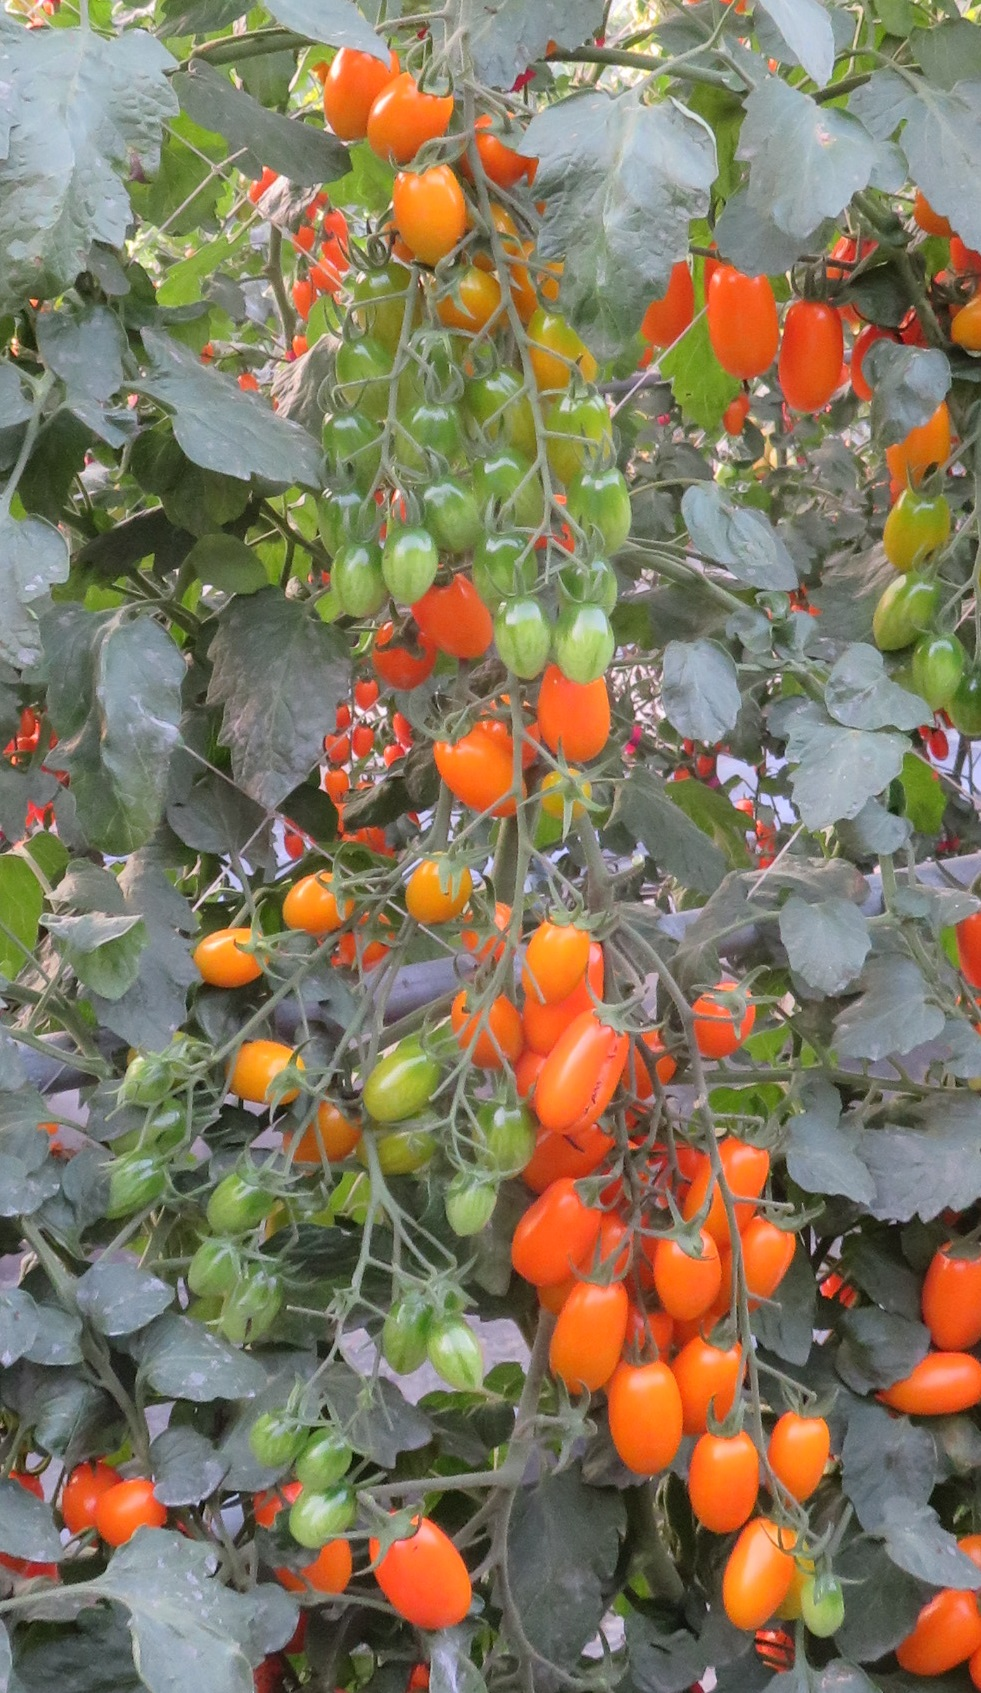green: (469, 450, 554, 527), (359, 1048, 439, 1126), (870, 573, 948, 649), (468, 1095, 538, 1177), (220, 1254, 284, 1343), (879, 492, 955, 565), (286, 1478, 362, 1551), (568, 467, 634, 549), (547, 390, 614, 466), (203, 1166, 276, 1236), (554, 602, 617, 681), (429, 1315, 486, 1395), (397, 407, 461, 478), (495, 599, 550, 681), (361, 1120, 444, 1173), (332, 335, 388, 414), (293, 1424, 361, 1490), (380, 527, 439, 600), (472, 372, 529, 447), (473, 536, 538, 600), (318, 414, 383, 478), (102, 1155, 171, 1214), (550, 560, 622, 616), (910, 638, 965, 711), (420, 483, 481, 549), (329, 543, 380, 620), (384, 1291, 431, 1373), (355, 262, 410, 330), (186, 1234, 243, 1296), (794, 1569, 846, 1637), (443, 1172, 491, 1239), (250, 1409, 302, 1469), (319, 489, 375, 544), (117, 1055, 171, 1102)
orange: (373, 1513, 472, 1629), (533, 1013, 627, 1133), (507, 1180, 608, 1287), (547, 1270, 631, 1396), (429, 722, 524, 821), (611, 1354, 687, 1475), (385, 166, 469, 269), (367, 70, 461, 161), (681, 1134, 771, 1229), (703, 264, 778, 375), (687, 1428, 760, 1537), (724, 1520, 795, 1631), (779, 290, 841, 411), (895, 1593, 981, 1674), (326, 41, 397, 139), (674, 1337, 743, 1437), (422, 573, 499, 662), (921, 1245, 981, 1356), (656, 1222, 722, 1321), (542, 675, 614, 762), (879, 1354, 981, 1415), (526, 901, 585, 1004), (363, 615, 443, 689), (277, 868, 357, 938), (686, 984, 759, 1060), (451, 988, 521, 1067), (97, 1473, 171, 1548), (772, 1414, 828, 1512), (230, 1038, 306, 1105), (269, 1541, 353, 1601), (745, 1214, 798, 1308), (402, 862, 479, 925), (194, 928, 267, 985), (629, 1025, 677, 1105), (62, 1456, 110, 1531), (307, 255, 343, 298), (723, 393, 753, 441), (290, 278, 318, 318), (348, 677, 377, 713), (327, 205, 352, 242), (323, 769, 349, 803), (279, 830, 305, 861), (327, 731, 348, 767), (353, 726, 377, 757), (380, 741, 408, 765), (391, 712, 409, 739)
